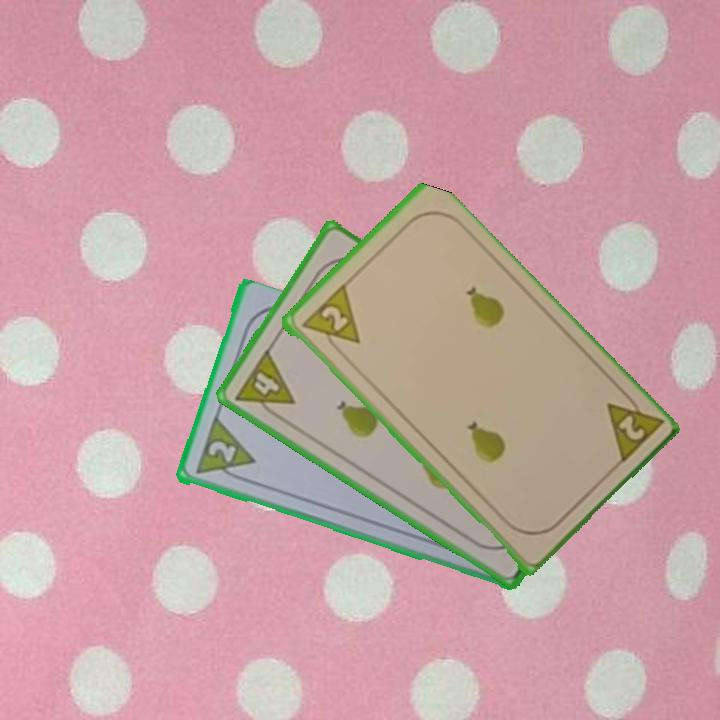2p: (601, 385, 664, 468), (297, 282, 363, 359), (203, 437, 239, 467)
4p: (231, 345, 298, 425)
